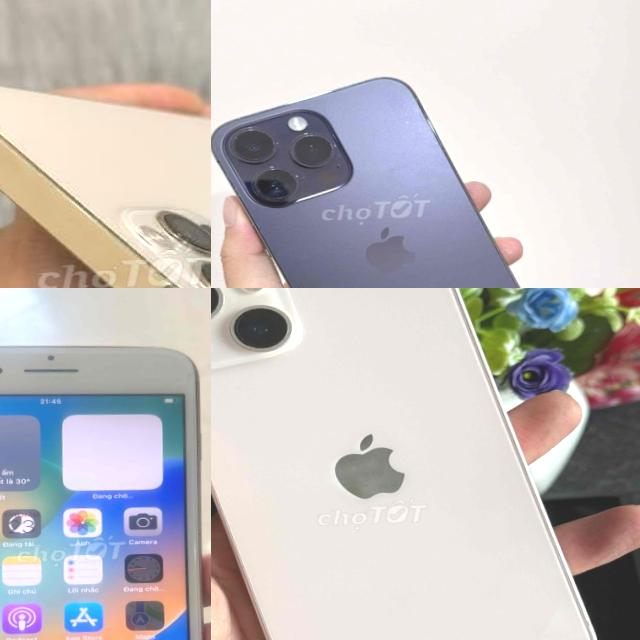gen_12_13: (211, 288, 606, 640), (0, 86, 211, 288)
gen_14: (211, 67, 563, 288)
